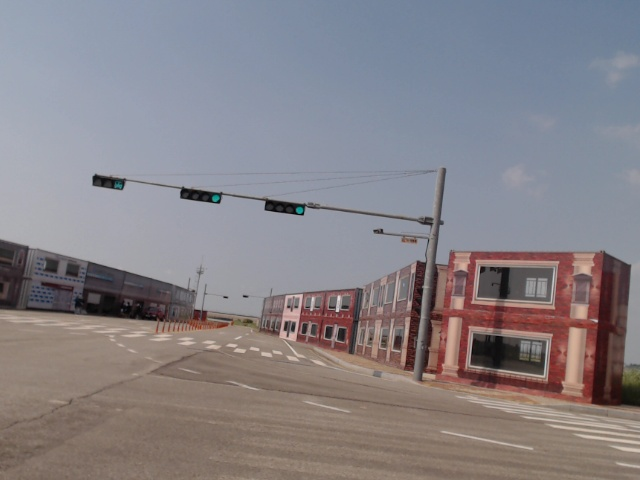straight_green_4: (182, 188, 224, 205), (265, 199, 307, 215)
